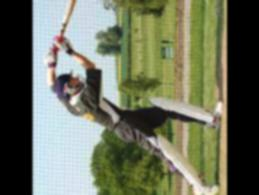batsman: (36, 17, 227, 195)
